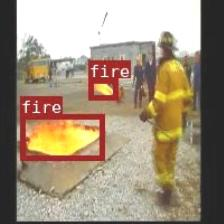fire: (19, 113, 104, 159), (88, 77, 116, 99)
